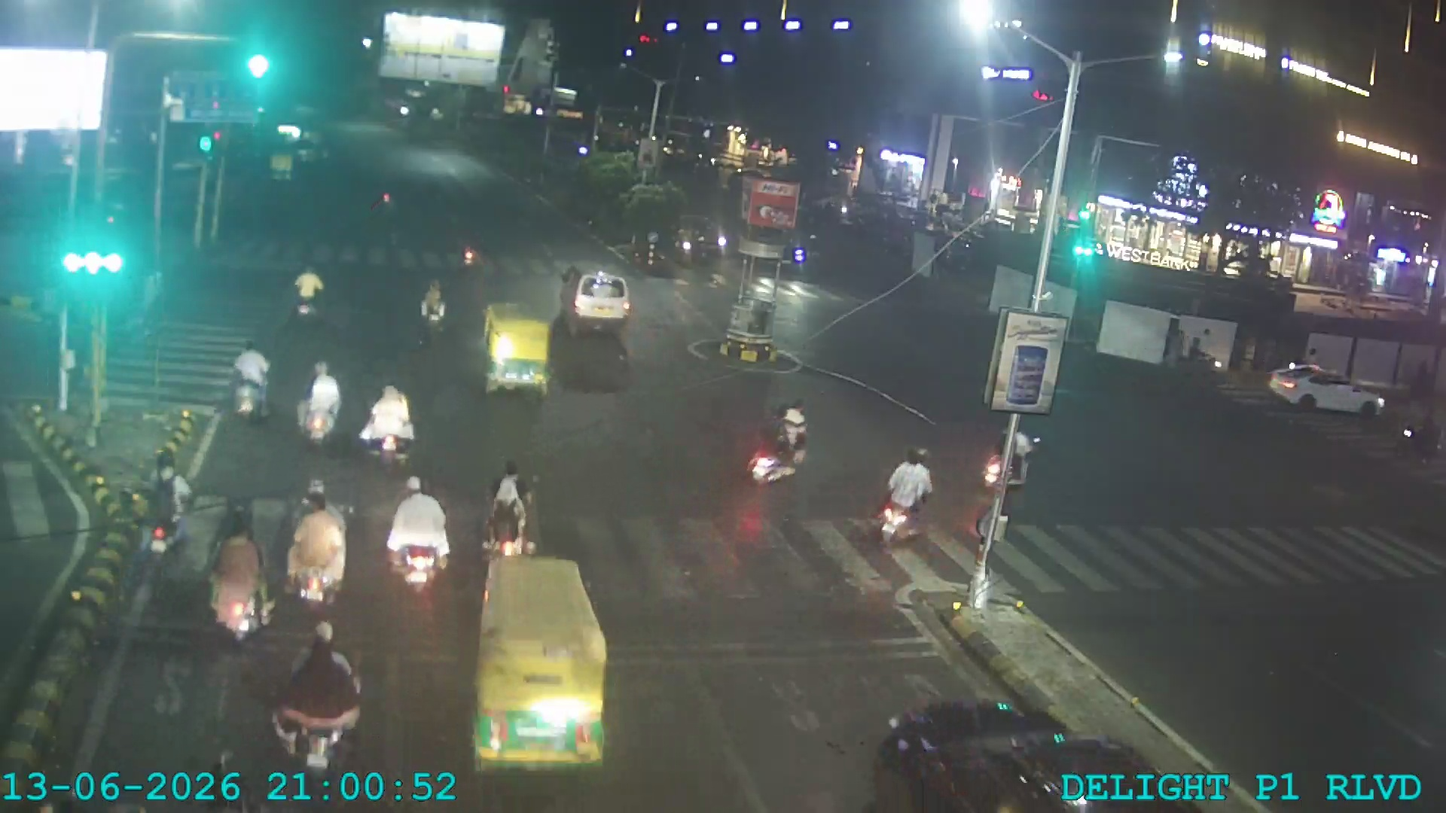auto_rickshaw: (468, 478, 614, 802), (480, 303, 557, 392)
car: (1264, 358, 1389, 419), (567, 264, 633, 330)
two_wheeler: (263, 614, 373, 772), (379, 473, 457, 596), (282, 486, 350, 610), (128, 439, 195, 560), (208, 524, 266, 642), (874, 445, 938, 548), (481, 457, 542, 560), (744, 397, 815, 485), (357, 379, 422, 464), (295, 352, 348, 449), (223, 336, 275, 425), (284, 257, 330, 328), (414, 275, 451, 347)
